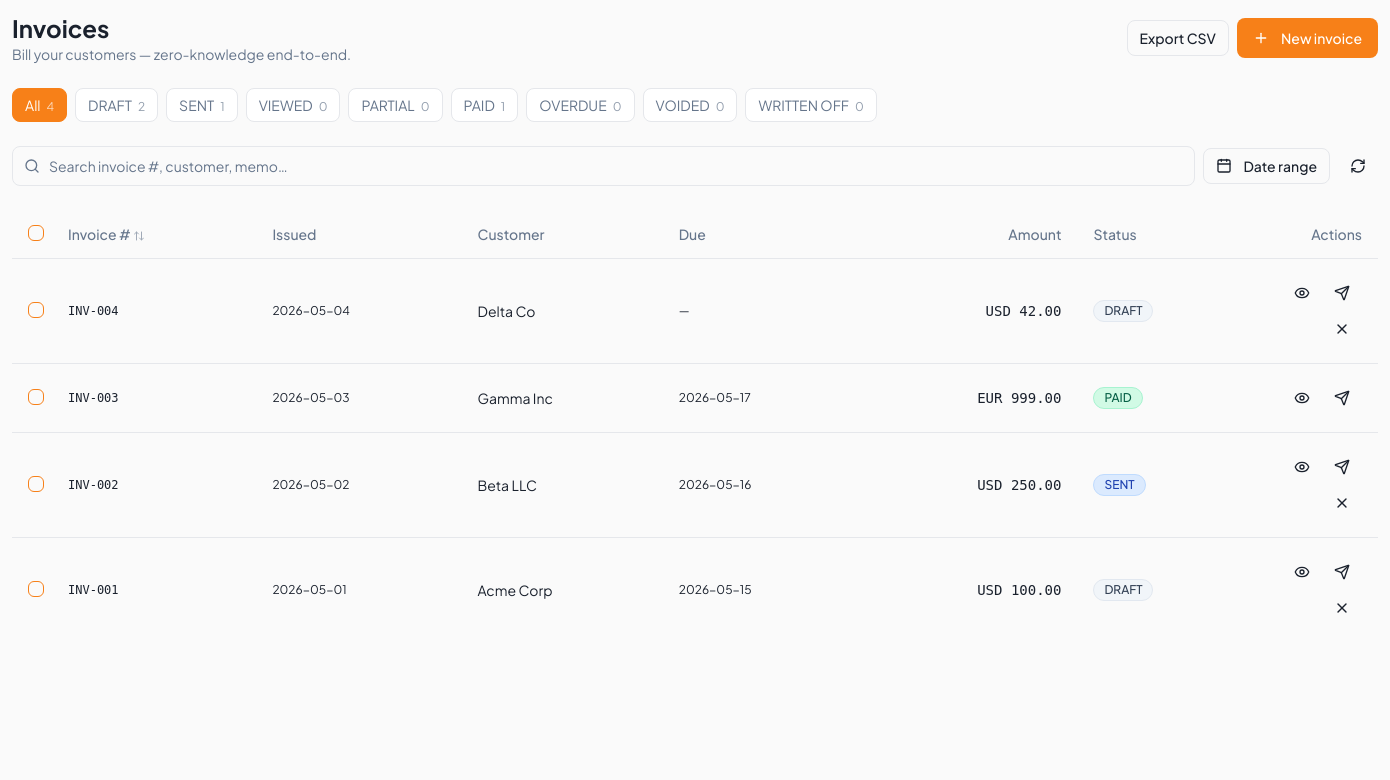
Test: Invoices page (I4) › shows the bulk-action bar when a row is selected
The width and height of the screenshot is (1390, 780).
Expected: the row with test id "invoice-row" that starts with "INV-004" is shown, [12, 258, 1378, 363]
Click the checkbox with test id "invoice-select-INV-001" at (36, 588), box [28, 580, 44, 596]
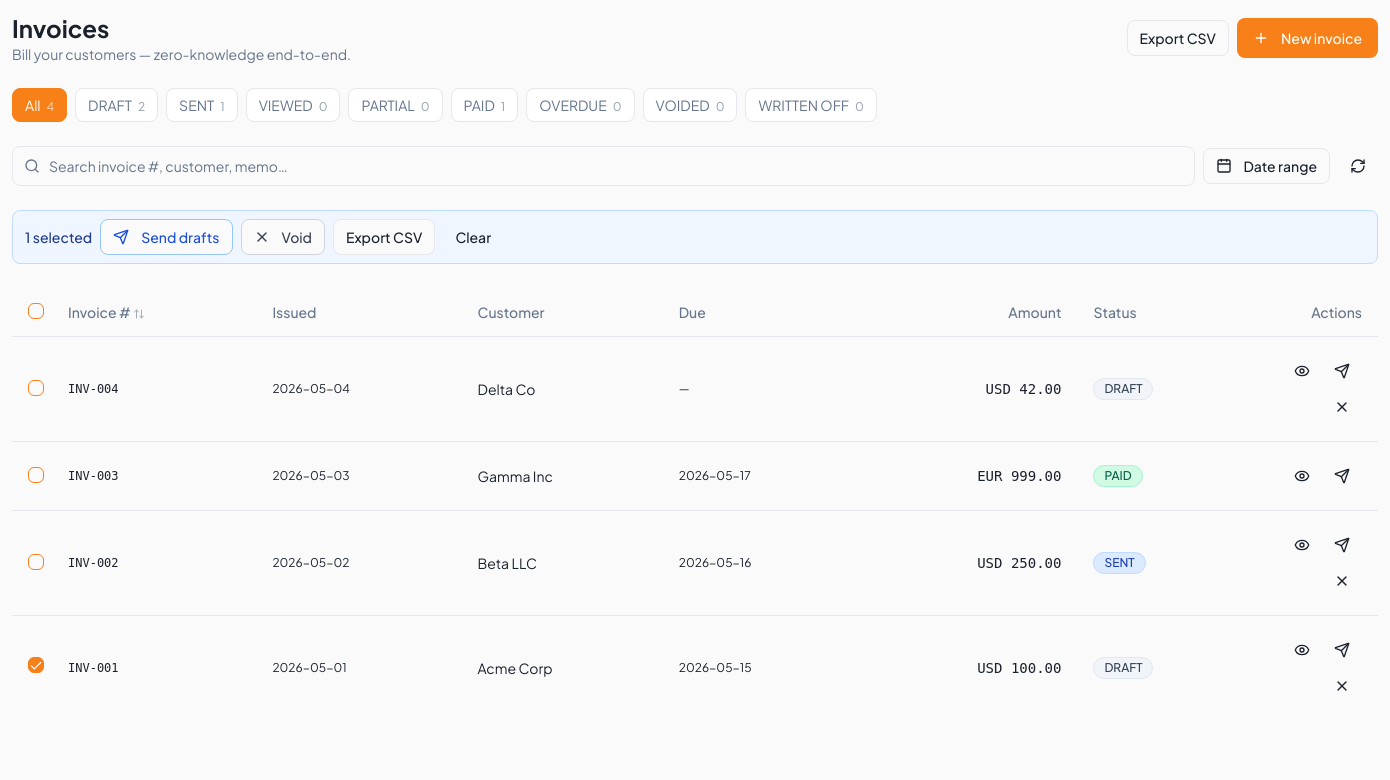
Now the text "1 selected" is shown, box [25, 227, 92, 247]
Now the button with test id "invoice-bulk-send" is shown, box [100, 219, 232, 255]
Now the button with test id "invoice-bulk-void" is shown, box [240, 219, 325, 255]
